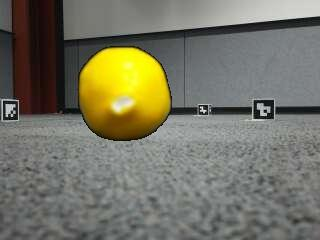lemon: (82, 48, 172, 141)
